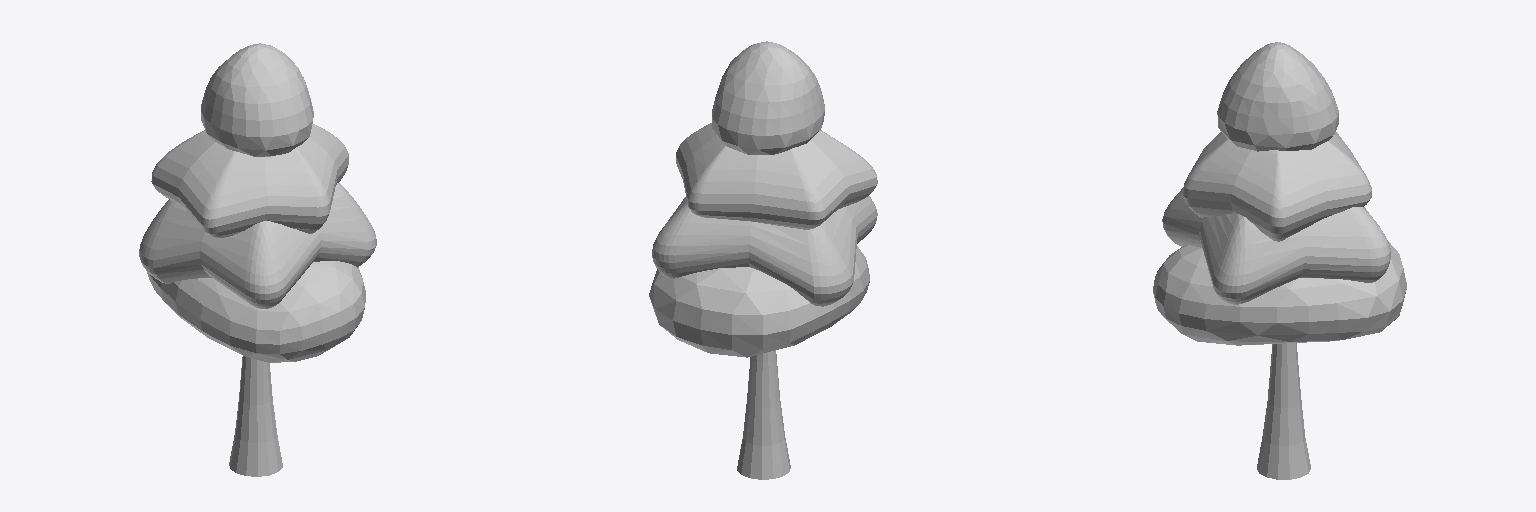
File: Tree3_1.obj
3 renders of one model, left to right at view 1: azimuth 30°, elevation 25°; view 2: azimuth 150°, elevation 25°; view 3: azimuth 270°, elevation 25°, orthographic.
Parts seen in each view (by area): view 1: Tree3_1; view 2: Tree3_1; view 3: Tree3_1.
Part boxes in pixels (left/top/right/bottom): Tree3_1: left=139, top=43, right=376, bottom=476; Tree3_1: left=649, top=41, right=877, bottom=479; Tree3_1: left=1153, top=42, right=1406, bottom=479.
Size of the model in its own units: 11.01 by 23.1 by 12.61.